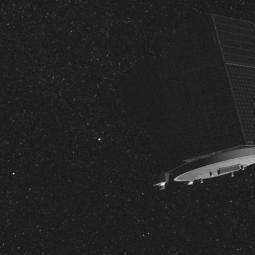cheops: (149, 6, 255, 198)
